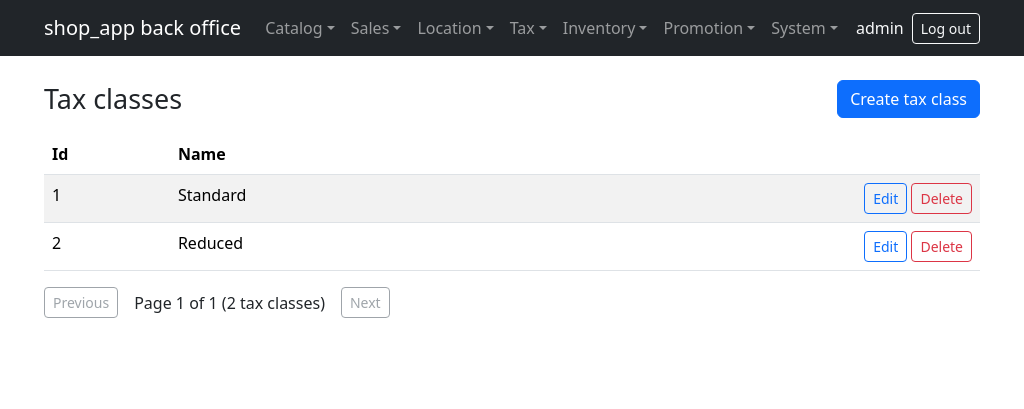
Test: Tax classes › lists tax classes and shows the in-use error on delete
The image size is (1024, 409).
Click the button "Delete" in the row of "Standard": (942,198) [911, 183, 972, 214]
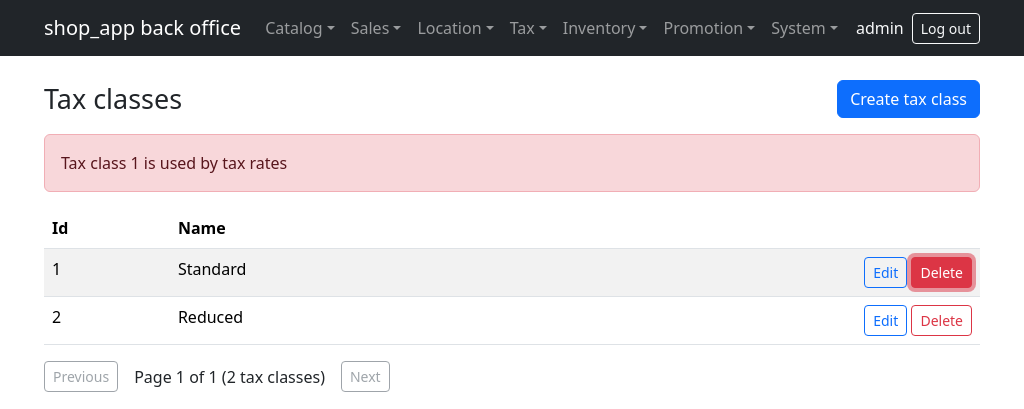
Expected: the text "Standard" is shown, [170, 248, 498, 296]
Expected: the message reads "Tax class 1 is used by tax rates", [61, 152, 287, 174]
